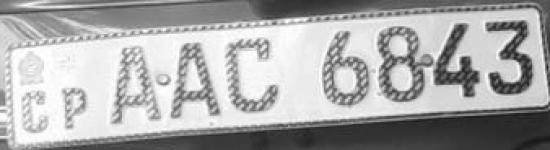3: (484, 15, 538, 100)
4: (428, 19, 483, 102)
6: (306, 27, 371, 111)
8: (370, 26, 428, 107)
A: (102, 42, 166, 127), (168, 39, 224, 124)
C: (224, 36, 284, 120), (16, 89, 55, 135)
P: (59, 86, 93, 132)
